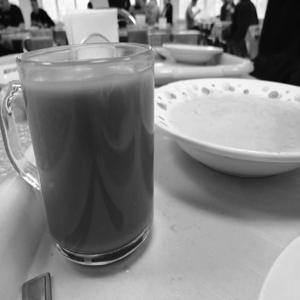coffee: (12, 32, 166, 269)
porridge: (156, 66, 294, 185)
